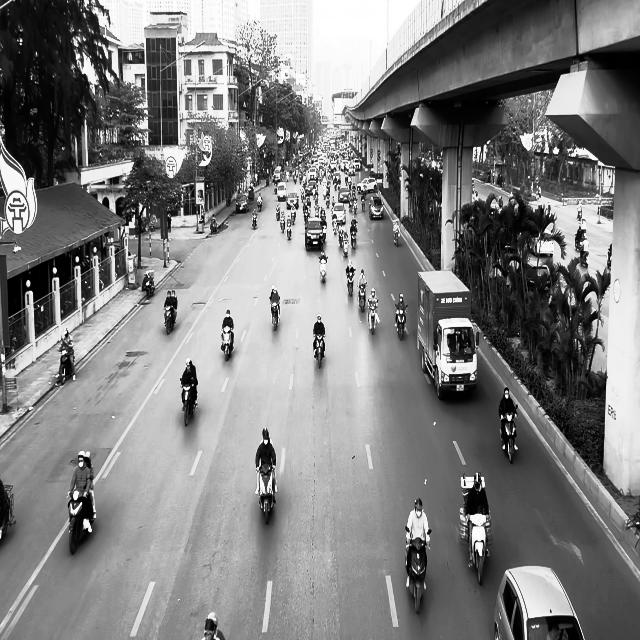car: (494, 565, 585, 639), (305, 218, 324, 250), (369, 196, 384, 219), (331, 203, 346, 224), (235, 193, 249, 213), (286, 191, 298, 209), (338, 186, 350, 202)
motorbike: (67, 468, 96, 555), (405, 526, 431, 613), (466, 508, 492, 585), (256, 463, 277, 524), (500, 404, 518, 464), (180, 378, 198, 426), (58, 347, 76, 385), (394, 303, 408, 340), (220, 326, 233, 360), (313, 333, 325, 368), (367, 300, 378, 335), (164, 305, 176, 334), (142, 270, 154, 298), (270, 299, 280, 330), (318, 254, 328, 282), (346, 268, 355, 296), (358, 284, 366, 312), (350, 224, 357, 249), (393, 228, 400, 247), (286, 218, 292, 239), (252, 209, 257, 229)
truck: (416, 268, 478, 399)
